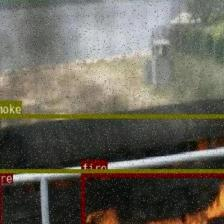smoke: (0, 114, 224, 172)
